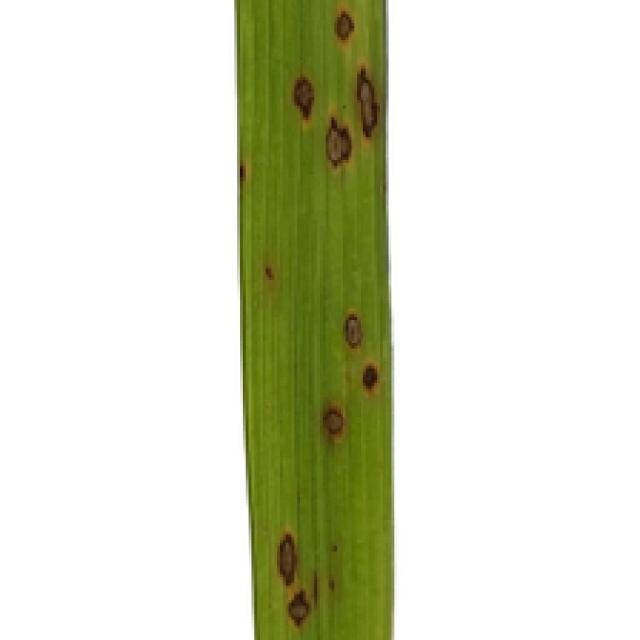Rice___Rice_Blast: (235, 0, 396, 637)
